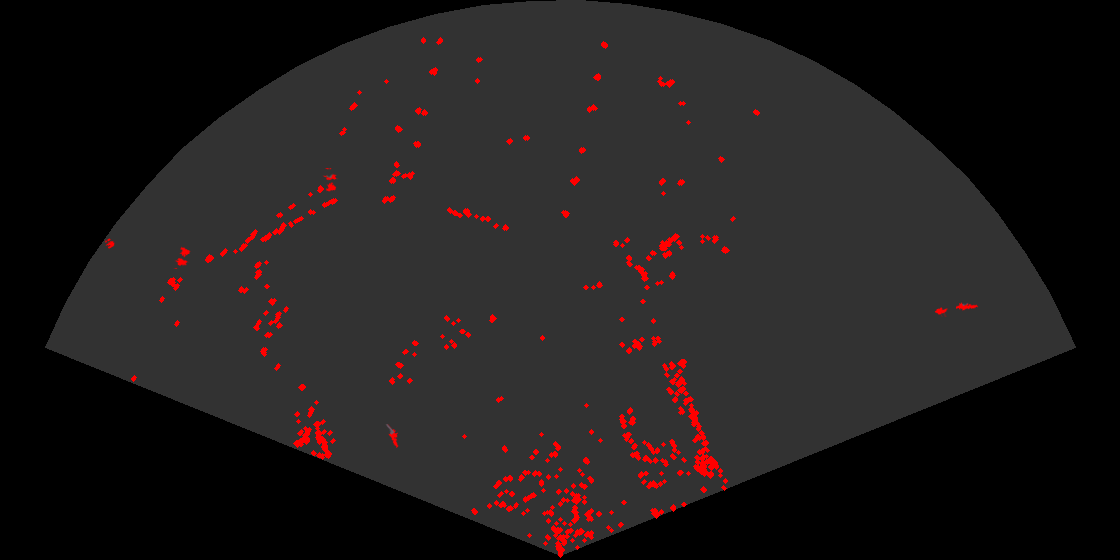AUV: (933, 306, 949, 317)
ball: (103, 237, 116, 250)
cage: (173, 245, 192, 269), (322, 168, 339, 193)
frogman: (385, 424, 400, 448), (956, 301, 979, 312)
